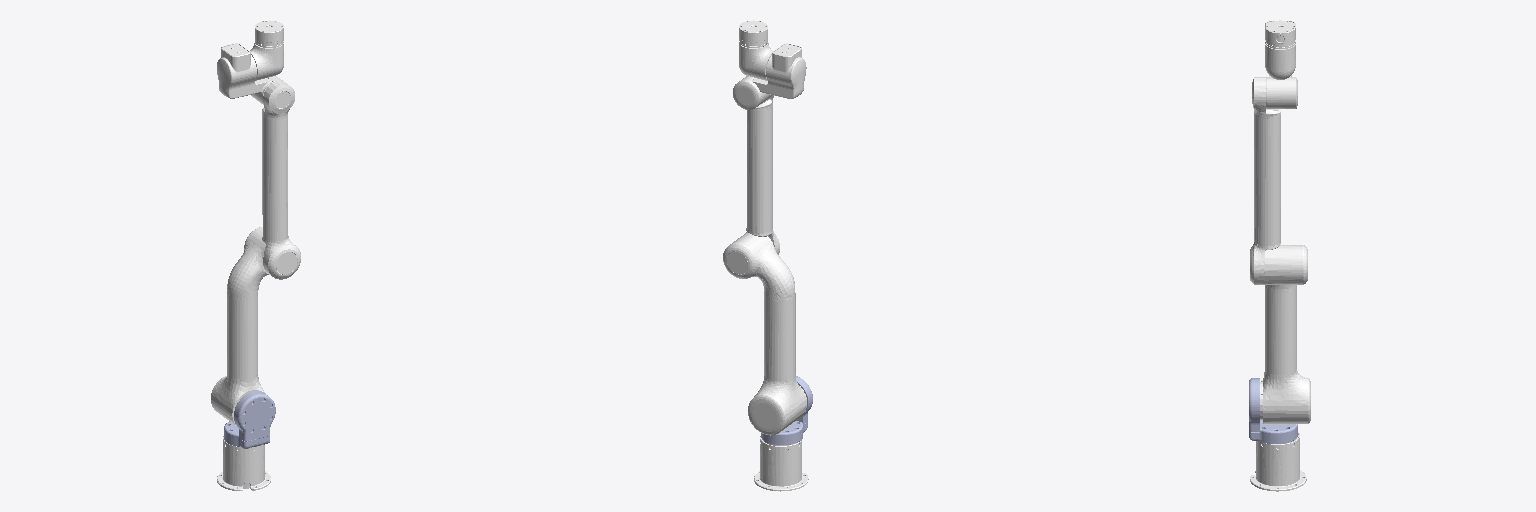
The robot description file, URDF, robot "GEN62-B-C4":
<?xml version="1.0" encoding="utf-8"?><!-- This URDF was automatically created by SolidWorks to URDF Exporter! Originally created by Stephen Brawner (brawner@gmail.com) 
     Commit Version: 1.6.0-4-g7f85cfe  Build Version: 1.6.7995.38578
     For more information, please see http://wiki.ros.org/sw_urdf_exporter --><robot name="GEN62-B-C4">
  <link name="base_link">
    <inertial>
      <origin xyz="0.000039 0.000095 0.04945" rpy="0 0 0"/>
      <mass value="0.878"/>
      <inertia ixx="0.00067289" ixy="0.000001146" ixz="0.000001607" iyy="0.000675188" iyz="0.000003884" izz="0.000514265"/>
    </inertial>
    <visual>
      <origin xyz="0 0 0" rpy="0 0 0"/>
      <geometry>
        <mesh filename="package://GEN62-B-C4/meshes/base_link.STL"/>
      </geometry>
      <material name="">
        <color rgba="1 1 1 1"/>
      </material>
    </visual>
    <collision>
      <origin xyz="0 0 0" rpy="0 0 0"/>
      <geometry>
        <mesh filename="package://GEN62-B-C4/meshes/base_link.STL"/>
      </geometry>
    </collision>
  </link>
  <link name="link_1">
    <inertial>
      <origin xyz="-0.000001 -0.021715 -0.030329" rpy="0 0 0"/>
      <mass value="0.158"/>
      <inertia ixx="0.000177031" ixy="-2e-9" ixz="8e-9" iyy="0.000156344" iyz="0.000040357" izz="0.000149146"/>
    </inertial>
    <visual>
      <origin xyz="0 0 0" rpy="0 0 0"/>
      <geometry>
        <mesh filename="package://GEN62-B-C4/meshes/link_1.STL"/>
      </geometry>
      <material name="">
        <color rgba="0.792156862745098 0.819607843137255 0.933333333333333 1"/>
      </material>
    </visual>
    <collision>
      <origin xyz="0 0 0" rpy="0 0 0"/>
      <geometry>
        <mesh filename="package://GEN62-B-C4/meshes/link_1.STL"/>
      </geometry>
    </collision>
  </link>
  <joint name="joint_1" type="revolute">
    <origin xyz="0 0 0.1335" rpy="0 0 0"/>
    <parent link="base_link"/>
    <child link="link_1"/>
    <axis xyz="0 0 1"/>
    <limit lower="-3.01941960595019" upper="3.01941960595019" effort="30" velocity="3.926"/>
  </joint>
  <link name="link_2">
    <inertial>
      <origin xyz="0.106809 -0.005367 0.000802" rpy="0 0 0"/>
      <mass value="1.606"/>
      <inertia ixx="0.001141086" ixy="0.000504522" ixz="-0.000157123" iyy="0.023614423" iyz="0.000015112" izz="0.023683411"/>
    </inertial>
    <visual>
      <origin xyz="0 0 0" rpy="0 0 0"/>
      <geometry>
        <mesh filename="package://GEN62-B-C4/meshes/link_2.STL"/>
      </geometry>
      <material name="">
        <color rgba="1 1 1 1"/>
      </material>
    </visual>
    <collision>
      <origin xyz="0 0 0" rpy="0 0 0"/>
      <geometry>
        <mesh filename="package://GEN62-B-C4/meshes/link_2.STL"/>
      </geometry>
    </collision>
  </link>
  <joint name="joint_2" type="revolute">
    <origin xyz="0 0.0035 0" rpy="-1.5707963268 -1.3629276129 0"/>
    <parent link="link_1"/>
    <child link="link_2"/>
    <axis xyz="0 0 1"/>
    <limit lower="-1.7627825445142729" upper="1.7627825445142729" effort="30" velocity="3.926"/>
  </joint>
  <link name="link_3">
    <inertial>
      <origin xyz="0.14227 -0.002007 -0.023453" rpy="0 0 0"/>
      <mass value="0.351"/>
      <inertia ixx="0.000092045" ixy="-0.000027952" ixz="-0.000041321" iyy="0.003332192" iyz="0.000001914" izz="0.003342002"/>
    </inertial>
    <visual>
      <origin xyz="0 0 0" rpy="0 0 0"/>
      <geometry>
        <mesh filename="package://GEN62-B-C4/meshes/link_3.STL"/>
      </geometry>
      <material name="">
        <color rgba="1 1 1 1"/>
      </material>
    </visual>
    <collision>
      <origin xyz="0 0 0" rpy="0 0 0"/>
      <geometry>
        <mesh filename="package://GEN62-B-C4/meshes/link_3.STL"/>
      </geometry>
    </collision>
  </link>
  <joint name="joint_3" type="revolute">
    <origin xyz="0.26265 0 0" rpy="0 0 -0.2249729406"/>
    <parent link="link_2"/>
    <child link="link_3"/>
    <axis xyz="0 0 1"/>
    <limit lower="-0.5410520681182421" upper="3.01941960595019" effort="10" velocity="3.926"/>
  </joint>
  <link name="link_4">
    <inertial>
      <origin xyz="0.024175 -0.028658 -0.001903" rpy="0 0 0"/>
      <mass value="0.484"/>
      <inertia ixx="0.000515605" ixy="0.000318535" ixz="-0.000021843" iyy="0.000426209" iyz="0.000025678" izz="0.000796128"/>
    </inertial>
    <visual>
      <origin xyz="0 0 0" rpy="0 0 0"/>
      <geometry>
        <mesh filename="package://GEN62-B-C4/meshes/link_4.STL"/>
      </geometry>
      <material name="">
        <color rgba="1 1 1 1"/>
      </material>
    </visual>
    <collision>
      <origin xyz="0 0 0" rpy="0 0 0"/>
      <geometry>
        <mesh filename="package://GEN62-B-C4/meshes/link_4.STL"/>
      </geometry>
    </collision>
  </link>
  <joint name="joint_4" type="revolute">
    <origin xyz="0.29004 0 0" rpy="0 0 0.0171042267"/>
    <parent link="link_3"/>
    <child link="link_4"/>
    <axis xyz="0 0 1"/>
    <limit lower="-1.0297442586766543" upper="1.9373154697137058" effort="3" velocity="3.14"/>
  </joint>
  <link name="link_5">
    <inertial>
      <origin xyz="-0.000012 0.013448 -0.003731" rpy="0 0 0"/>
      <mass value="0.23"/>
      <inertia ixx="0.000093093" ixy="3e-8" ixz="3.9e-8" iyy="0.000070275" iyz="-0.000009091" izz="0.000075946"/>
    </inertial>
    <visual>
      <origin xyz="0 0 0" rpy="0 0 0"/>
      <geometry>
        <mesh filename="package://GEN62-B-C4/meshes/link_5.STL"/>
      </geometry>
      <material name="">
        <color rgba="1 1 1 1"/>
      </material>
    </visual>
    <collision>
      <origin xyz="0 0 0" rpy="0 0 0"/>
      <geometry>
        <mesh filename="package://GEN62-B-C4/meshes/link_5.STL"/>
      </geometry>
    </collision>
  </link>
  <joint name="joint_5" type="revolute">
    <origin xyz="0.05 0 0" rpy="-0.7853981634 -1.5707963268 -0.7853981634"/>
    <parent link="link_4"/>
    <child link="link_5"/>
    <axis xyz="0 0 1"/>
    <limit lower="-1.53588974175501" upper="1.53588974175501" effort="3" velocity="3.14"/>
  </joint>
  <link name="link_6">
    <inertial>
      <origin xyz="0.000052 0.000331 -0.013028" rpy="0 0 0"/>
      <mass value="0.063"/>
      <inertia ixx="0.000016117" ixy="2.2e-8" ixz="-3.7e-8" iyy="0.000016051" iyz="-5.3e-8" izz="0.000023052"/>
    </inertial>
    <visual>
      <origin xyz="0 0 0" rpy="0 0 0"/>
      <geometry>
        <mesh filename="package://GEN62-B-C4/meshes/link_6.STL"/>
      </geometry>
      <material name="">
        <color rgba="1 1 1 1"/>
      </material>
    </visual>
    <collision>
      <origin xyz="0 0 0" rpy="0 0 0"/>
      <geometry>
        <mesh filename="package://GEN62-B-C4/meshes/link_6.STL"/>
      </geometry>
    </collision>
  </link>
  <joint name="joint_6" type="revolute">
    <origin xyz="0 0.063 0" rpy="-1.5707963268 0 0"/>
    <parent link="link_5"/>
    <child link="link_6"/>
    <axis xyz="0 0 1"/>
    <limit lower="-6.283185307179586" upper="6.283185307179586" effort="3" velocity="3.14"/>
  </joint>
</robot>

--- Facts derived from the render (not from the file) ---
The picture shows the robot from 3 angles, left to right: view 1: azimuth 30°, elevation 25°; view 2: azimuth 150°, elevation 25°; view 3: azimuth 270°, elevation 25°; orthographic projection.
Model GEN62-B-C4 with 7 links and 6 joints (6 revolute), rooted at base_link, posed all joints at 0.
Links seen in each view (by area): view 1: link_2, link_3, link_1, link_4, base_link, link_5, link_6; view 2: link_2, link_3, link_4, base_link, link_1, link_5, link_6; view 3: link_2, link_3, base_link, link_1, link_4, link_5, link_6.
Link boxes in pixels (bbox=[...]): link_2: bbox=[211, 227, 269, 425]; link_3: bbox=[262, 81, 300, 279]; link_1: bbox=[224, 391, 275, 448]; link_4: bbox=[217, 43, 283, 104]; base_link: bbox=[217, 436, 270, 490]; link_5: bbox=[250, 43, 283, 80]; link_6: bbox=[255, 20, 283, 47]; link_2: bbox=[723, 232, 806, 435]; link_3: bbox=[746, 95, 779, 254]; link_4: bbox=[733, 43, 806, 109]; base_link: bbox=[754, 436, 808, 491]; link_1: bbox=[761, 376, 812, 444]; link_5: bbox=[739, 43, 772, 80]; link_6: bbox=[739, 20, 767, 47]; link_2: bbox=[1260, 245, 1310, 423]; link_3: bbox=[1250, 77, 1280, 284]; base_link: bbox=[1250, 432, 1306, 491]; link_1: bbox=[1249, 378, 1297, 443]; link_4: bbox=[1265, 21, 1297, 108]; link_5: bbox=[1265, 44, 1295, 79]; link_6: bbox=[1265, 20, 1295, 48].
Bounding box of the posed robot: 0.1292 × 0.0965 × 0.7935 m (x, y, z).
Meshes: 7 distinct files referenced, 7 mesh visuals loaded (7 binary STL).
